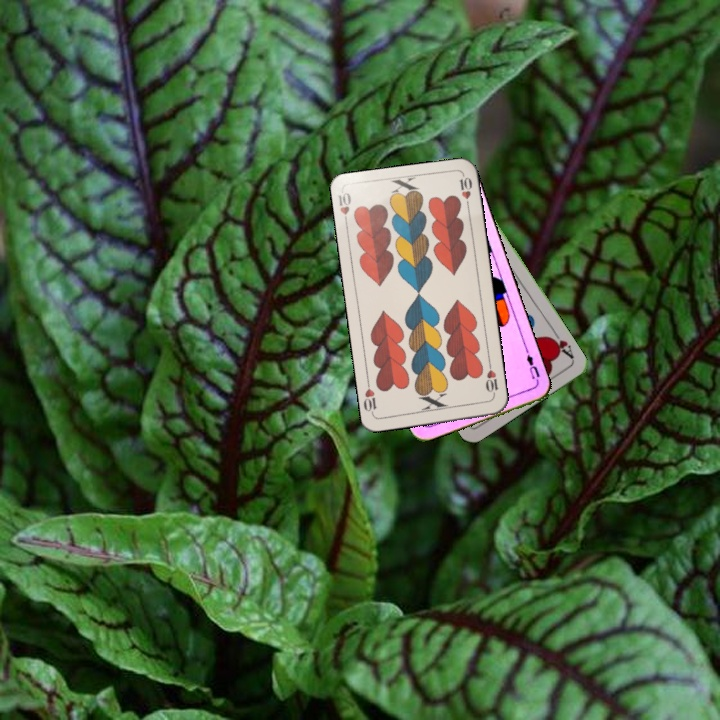EU: (522, 350, 542, 386)
H10: (481, 359, 501, 400), (334, 188, 354, 229)
HA: (544, 326, 576, 363)
